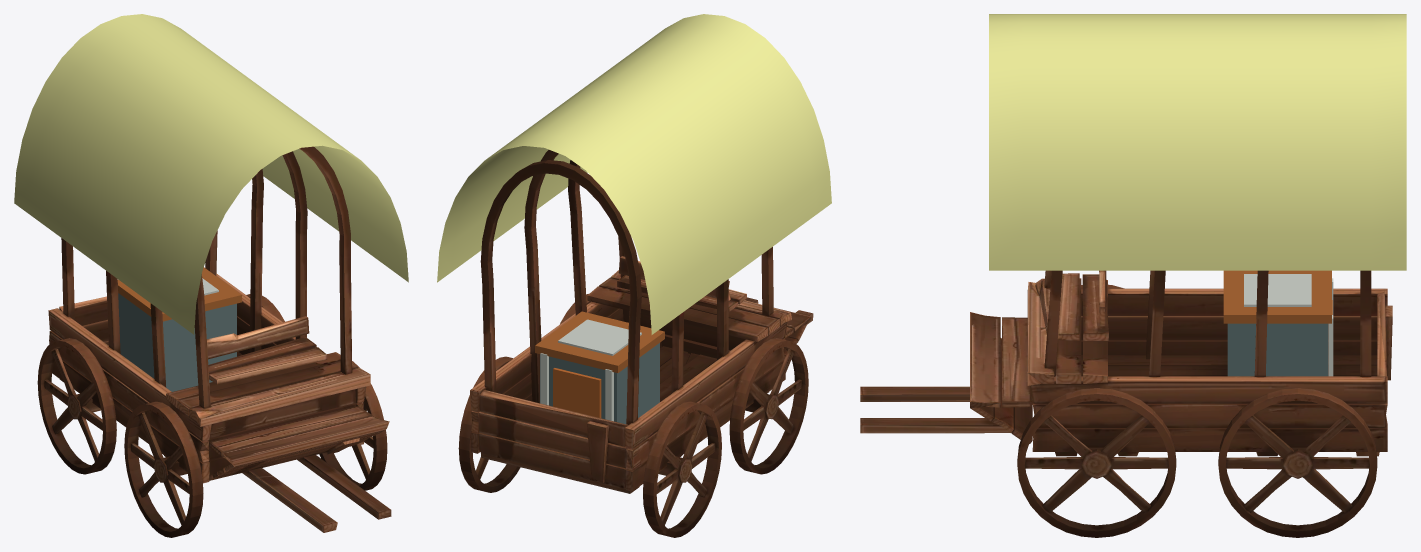
Rendered from astra_t06.glb.
3 renders of one model, left to right at view 1: azimuth 30°, elevation 25°; view 2: azimuth 150°, elevation 25°; view 3: azimuth 270°, elevation 25°, orthographic. The views are drawn at different scales.
Parts seen in each view (by area): view 1: replacement_canopy, slot_anchor_frame, slot_front_wheels, storage_body, storage_lid; view 2: replacement_canopy, slot_anchor_frame, slot_front_wheels, storage_body, storage_lid, orange_panel, lid_panel; view 3: replacement_canopy, slot_anchor_frame, slot_front_wheels, storage_body, storage_lid, lid_panel.
Boxes of the visible parts, left/top/right/bottom form: replacement_canopy: left=14, top=14, right=408, bottom=334; slot_anchor_frame: left=37, top=146, right=391, bottom=532; slot_front_wheels: left=124, top=361, right=387, bottom=537; storage_body: left=118, top=293, right=236, bottom=391; storage_lid: left=117, top=267, right=241, bottom=321; replacement_canopy: left=437, top=14, right=831, bottom=334; slot_anchor_frame: left=458, top=150, right=813, bottom=537; slot_front_wheels: left=560, top=294, right=808, bottom=474; storage_body: left=540, top=343, right=659, bottom=424; storage_lid: left=535, top=311, right=664, bottom=372; orange_panel: left=553, top=368, right=601, bottom=417; lid_panel: left=558, top=319, right=641, bottom=355; replacement_canopy: left=989, top=14, right=1406, bottom=270; slot_anchor_frame: left=860, top=270, right=1392, bottom=537; slot_front_wheels: left=1017, top=284, right=1176, bottom=537; storage_body: left=1227, top=323, right=1327, bottom=376; storage_lid: left=1223, top=270, right=1331, bottom=323; lid_panel: left=1244, top=274, right=1311, bottom=306.
Size of the model in its own units: 1.06 by 1.87 by 2.01.
Materials: 8 (1 with a texture image).
